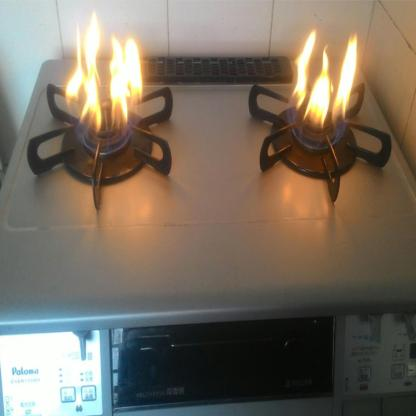fire: (49, 21, 145, 150), (282, 23, 366, 137)
